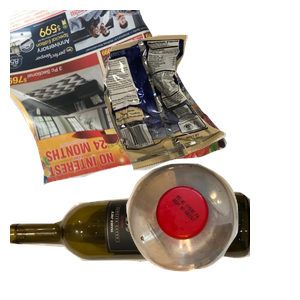glass: (10, 189, 250, 300)
paper: (10, 10, 230, 188)
plastic: (124, 161, 300, 300)
trash: (101, 32, 300, 195)
